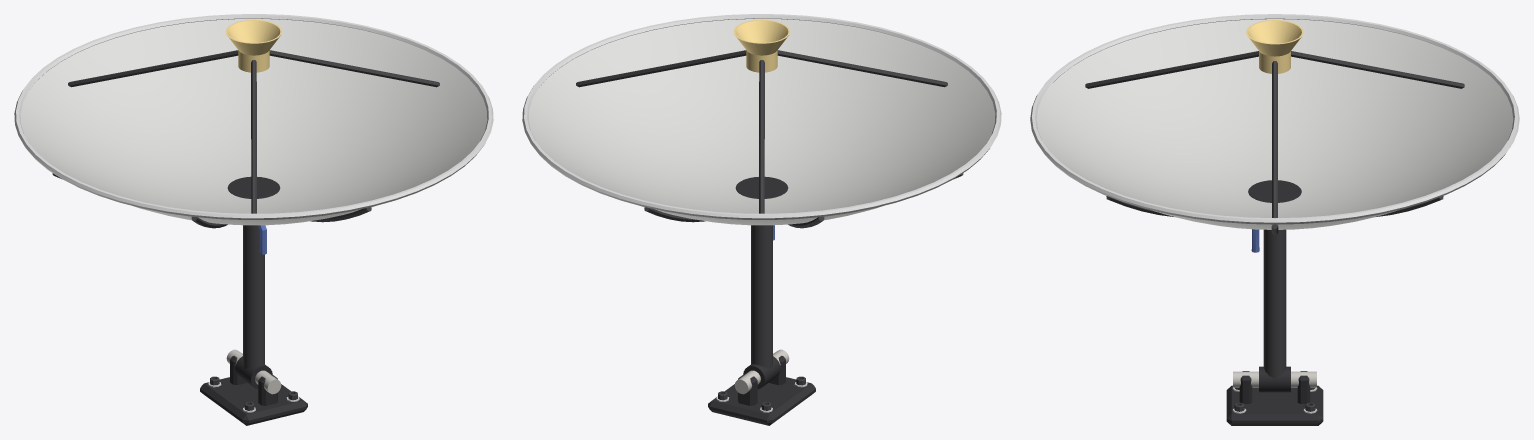
File: dish_antenna.glb
3 views of the same model, side by side, from view 1: azimuth 30°, elevation 25°; view 2: azimuth 150°, elevation 25°; view 3: azimuth 270°, elevation 25° (orthographic). The views are drawn at different scales.
Visible parts, largest first — view 1: dish, dish_antenna, arm_hinge; view 2: dish, dish_antenna, arm_hinge; view 3: dish, dish_antenna, arm_hinge.
Part boxes in pixels (x1=…): dish: x1=14, y1=14, x2=493, y2=254; dish_antenna: x1=200, y1=349, x2=307, y2=425; arm_hinge: x1=235, y1=225, x2=272, y2=388; dish: x1=522, y1=14, x2=1001, y2=240; dish_antenna: x1=708, y1=349, x2=815, y2=425; arm_hinge: x1=743, y1=225, x2=780, y2=388; dish: x1=1030, y1=14, x2=1519, y2=252; dish_antenna: x1=1226, y1=371, x2=1323, y2=425; arm_hinge: x1=1259, y1=229, x2=1290, y2=392.
Size of the model in its own units: 0.152 by 0.13 by 0.152.
